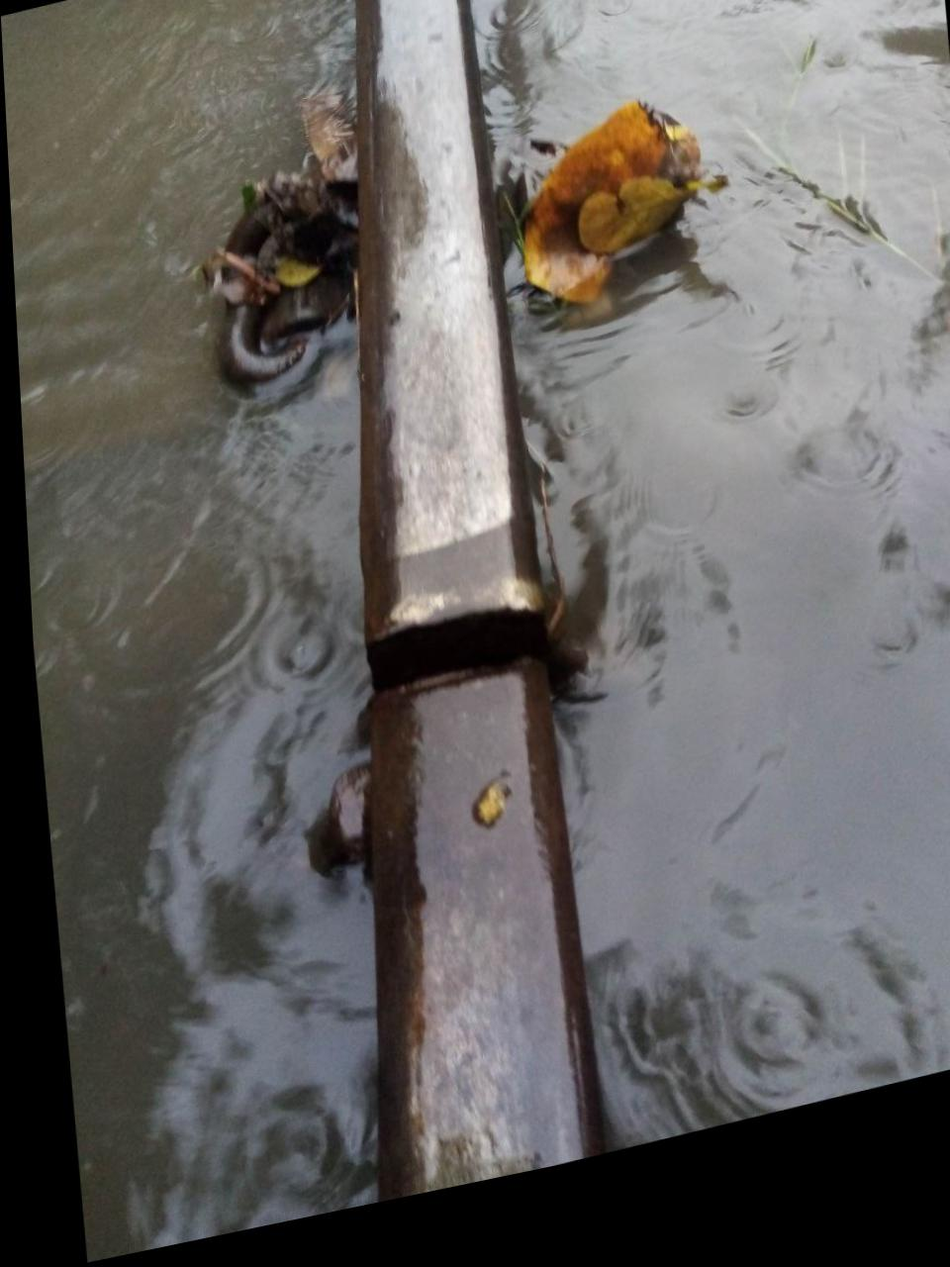person: (296, 501, 605, 840)
